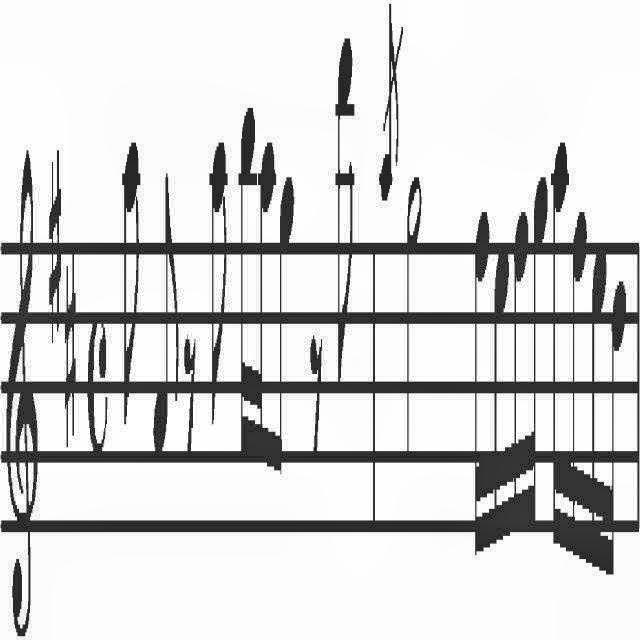Bass-clef: (0, 84, 44, 639)
Diez: (61, 240, 80, 462), (45, 143, 63, 361)
Eighth-note: (332, 20, 360, 384), (149, 148, 181, 460), (116, 126, 144, 458), (207, 116, 231, 448), (277, 154, 295, 486)
Eighth-rest: (306, 298, 328, 470), (182, 314, 198, 478)
Half-note: (404, 150, 426, 538)
Sixteenth-note: (466, 195, 492, 570), (551, 117, 569, 561), (570, 186, 590, 584), (236, 85, 256, 463), (531, 164, 549, 560), (510, 191, 530, 545), (610, 253, 630, 594), (588, 224, 606, 588), (492, 220, 510, 552), (258, 130, 274, 486)
